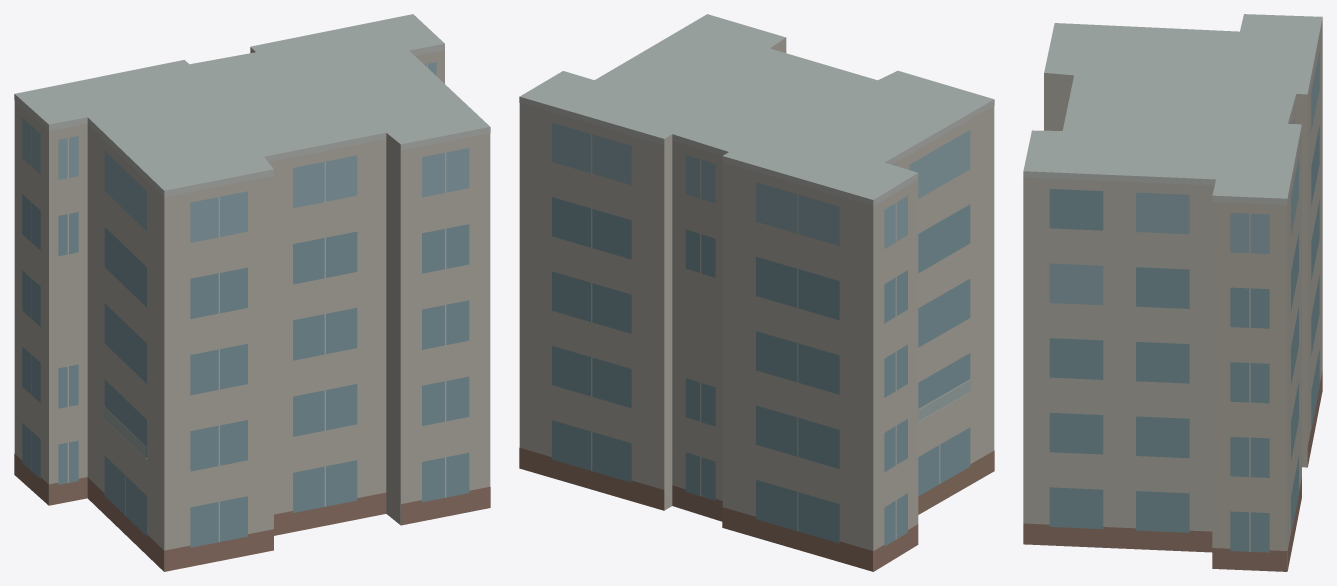
The model's file is survey-upis-33029316.glb.
3 renders of one model, left to right at view 1: azimuth 30°, elevation 25°; view 2: azimuth 150°, elevation 25°; view 3: azimuth 270°, elevation 25°, orthographic. The views are drawn at different scales.
Visible parts, largest first — view 1: survey-upis-33029316.tmp; view 2: survey-upis-33029316.tmp; view 3: survey-upis-33029316.tmp.
Boxes of the visible parts, left/top/right/bottom form: survey-upis-33029316.tmp: left=14, top=14, right=490, bottom=571; survey-upis-33029316.tmp: left=519, top=14, right=994, bottom=571; survey-upis-33029316.tmp: left=1023, top=14, right=1322, bottom=571.
Size of the model in its own units: 15.51 by 14.6 by 10.62.
